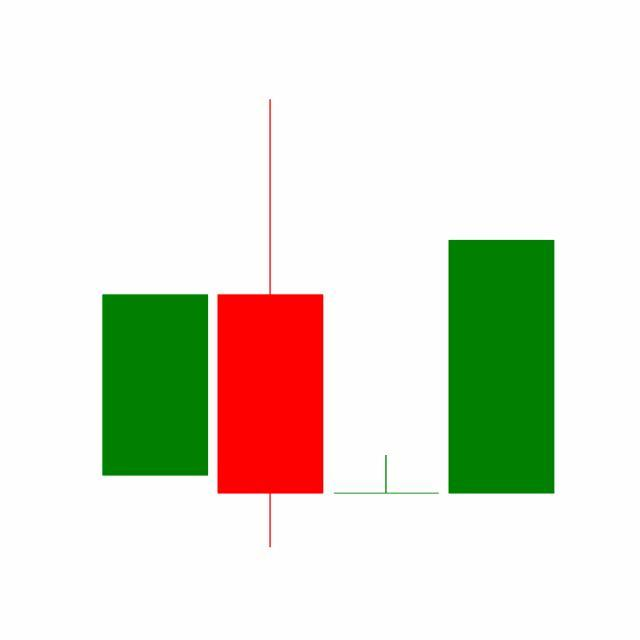Gravestone Doji: (329, 454, 445, 495)
